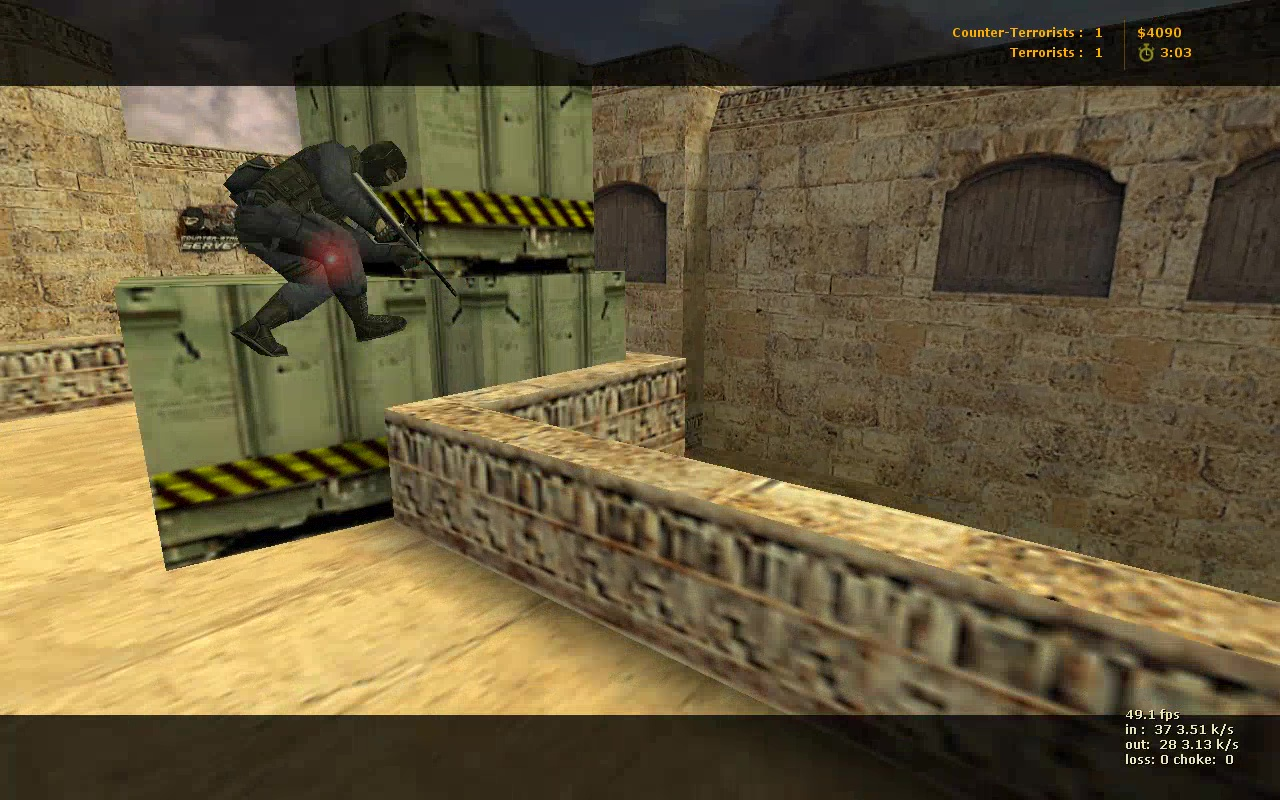ct: (224, 140, 414, 353)
